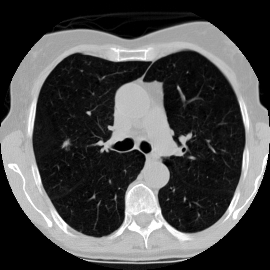nodule: (62, 140, 70, 148)
